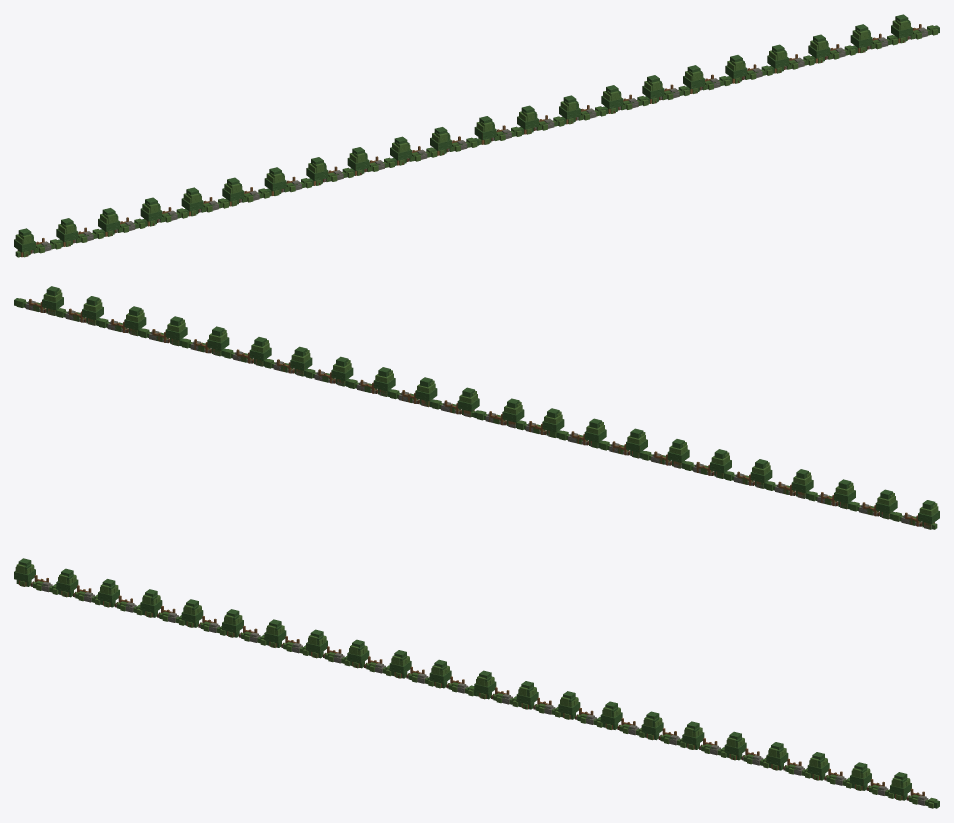
File: WW2_Entorno_Natural_Blockbench.obj
3 views of the same model, one above another, from view 1: azimuth 30°, elevation 25°; view 2: azimuth 150°, elevation 25°; view 3: azimuth 330°, elevation 25° (orthographic).
Visible parts, largest first — view 1: Copa_pino_1, Mata_3, Copa_irregular_4, Mata_1, Copa_pino_3, Copa_pino_2, Piedra_base, Mata_4, Mata_2, Piedra_superior; view 2: Copa_pino_1, Mata_1, Copa_pino_2, Copa_pino_3, Piedra_base, Mata_2, Tabla_valla, Poste_valla_1, Poste_valla_3, Mata_4; view 3: Copa_pino_1, Mata_3, Copa_pino_3, Copa_irregular_4, Piedra_base, Mata_2, Copa_pino_2, Mata_1, Mata_4, Piedra_superior, Copa_irregular_3, Copa_irregular_2.
Part boxes in pixels (box(x1,y1,x2,y2)): Copa_pino_1: box(14, 25, 912, 252); Mata_3: box(23, 29, 937, 257); Copa_irregular_4: box(20, 20, 908, 244); Mata_1: box(18, 25, 935, 252); Copa_pino_3: box(18, 14, 908, 235); Copa_pino_2: box(15, 20, 910, 244); Piedra_base: box(32, 30, 927, 253); Mata_4: box(15, 29, 931, 257); Mata_2: box(28, 25, 939, 255); Piedra_superior: box(41, 27, 926, 245); Copa_pino_1: box(42, 297, 939, 523); Mata_1: box(16, 298, 933, 529); Copa_pino_2: box(44, 292, 938, 515); Copa_pino_3: box(46, 286, 935, 509); Piedra_base: box(25, 303, 931, 529); Mata_2: box(14, 298, 923, 527); Tabla_valla: box(30, 303, 917, 521); Poste_valla_1: box(40, 301, 919, 526); Poste_valla_3: box(29, 299, 907, 522); Mata_4: box(23, 301, 937, 529); Copa_pino_1: box(14, 569, 911, 796); Mata_3: box(20, 581, 933, 808); Copa_pino_3: box(18, 558, 907, 780); Copa_irregular_4: box(16, 563, 901, 787); Piedra_base: box(32, 583, 928, 805); Mata_2: box(26, 580, 939, 808); Copa_pino_2: box(15, 564, 909, 787); Mata_1: box(36, 580, 937, 805); Mata_4: box(16, 580, 927, 805); Piedra_superior: box(42, 581, 926, 800); Copa_irregular_3: box(24, 564, 906, 787); Copa_irregular_2: box(30, 565, 910, 786).
Bounding box in the file's own units: 99.25 × 2.53 × 1.5.
Materials: 1 (1 with a texture image).
